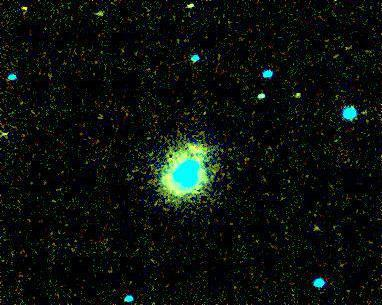star: (10, 0, 40, 24)
